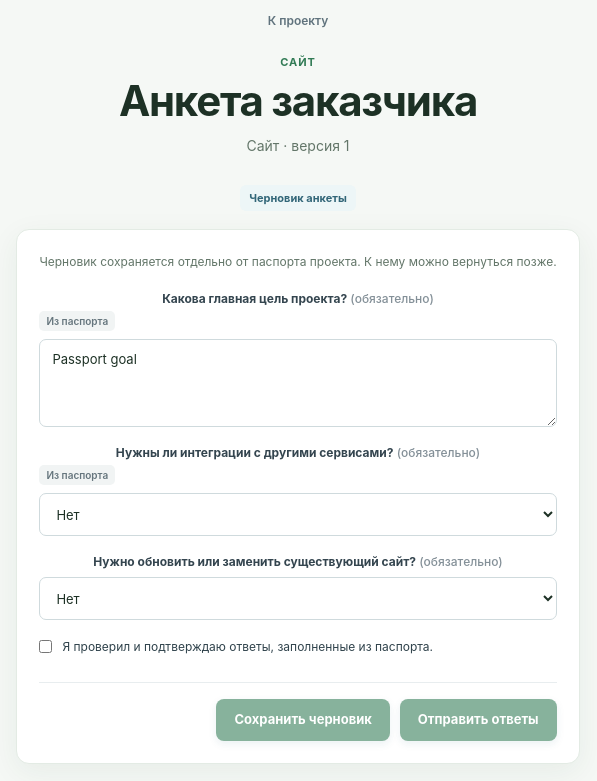
Test: customer confirms prefilled answers and sees the submitted version locked
Expected: the heading "Анкета заказчика" is shown, [119,77,477,124]
Expected: the button "Отправить ответы" is disabled, [400,699,557,741]
Click the checkbox labelled "Я проверил и подтверждаю ответы, заполненные из паспорта." at (46, 647), box [39,640,52,653]
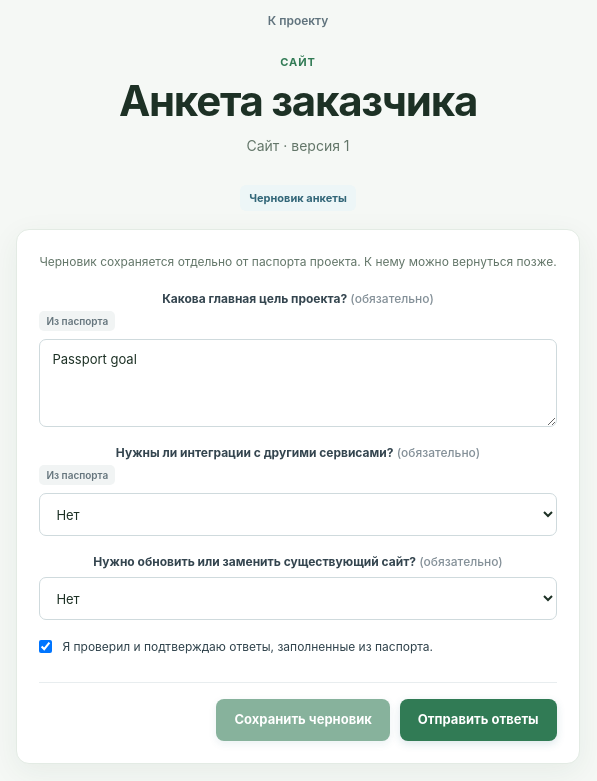
Click the button "Отправить ответы" at (478, 720), box [400,699,557,741]
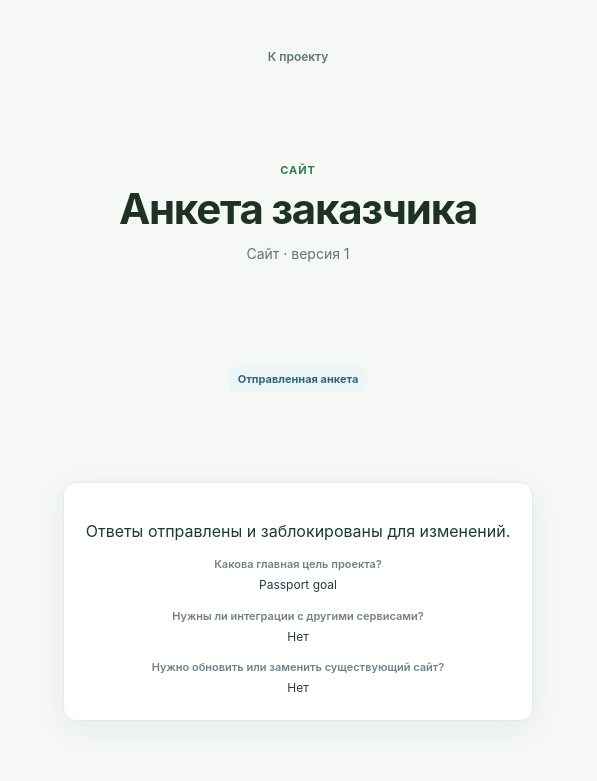
Expected: the text "Ответы отправлены и заблокированы для изменений." is shown, [86,521,510,541]
Expected: the text "Passport goal" is shown, [259,577,337,592]
